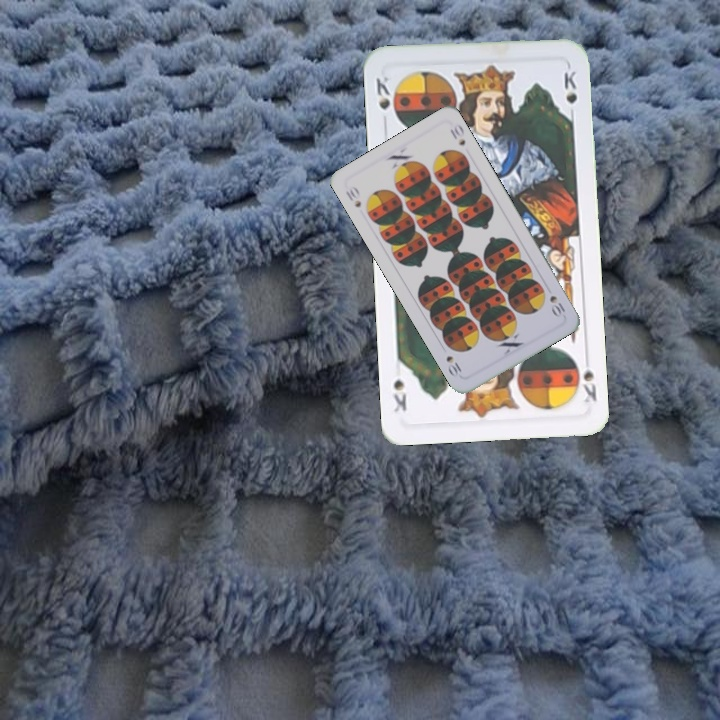S10: (545, 291, 568, 320), (341, 182, 364, 210)
SK: (579, 350, 600, 406), (372, 72, 393, 113)
